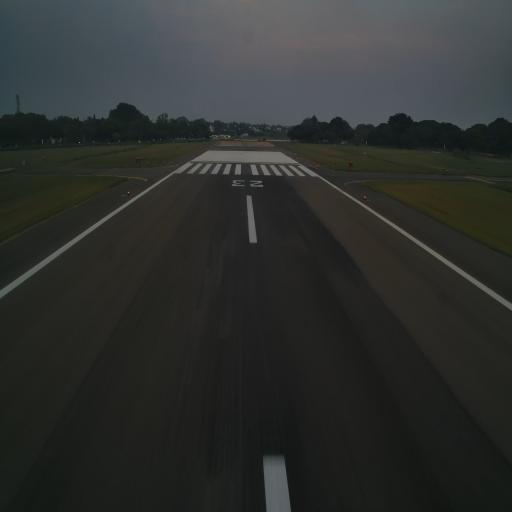on: (126, 188, 132, 198), (363, 193, 367, 202)
